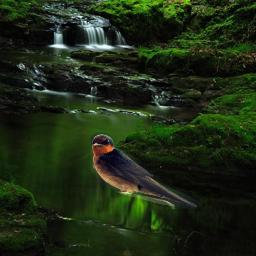Swallow: (90, 132, 198, 209)
